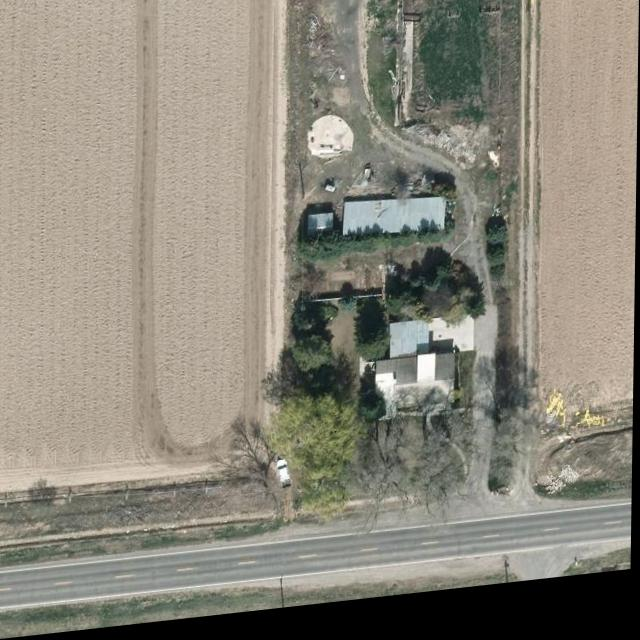vehicle: (277, 466, 294, 497)
